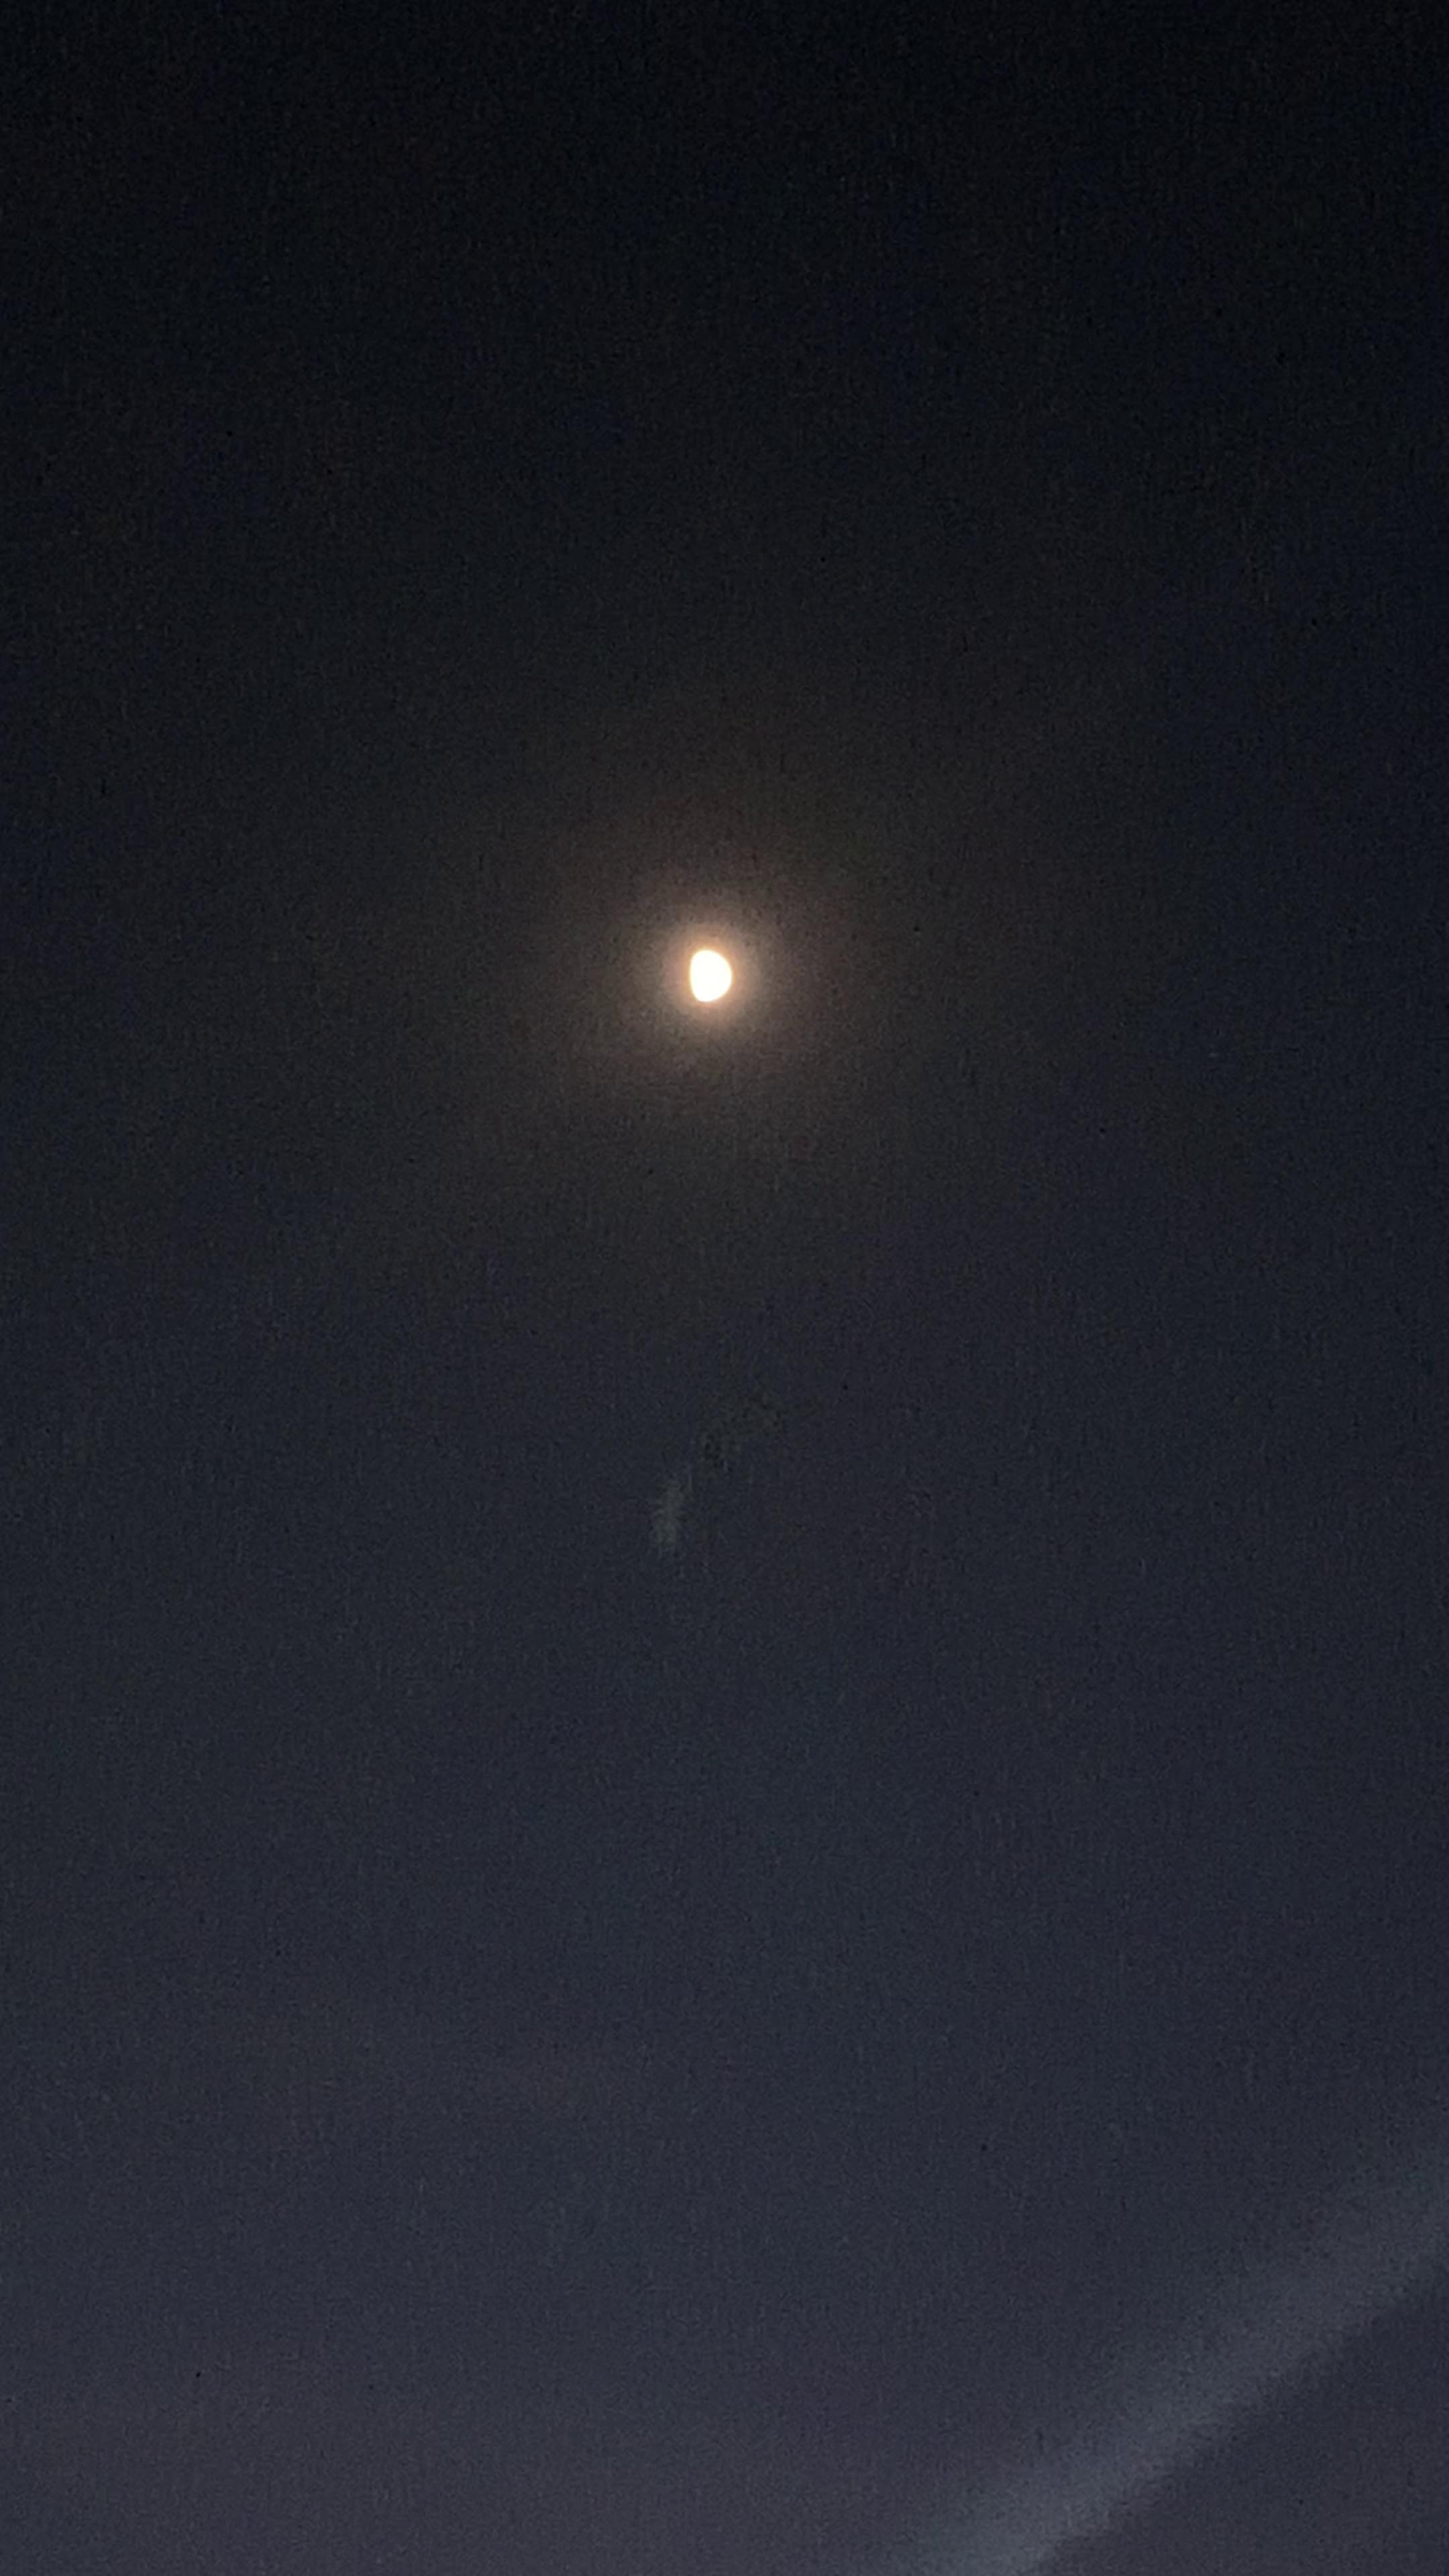moon: (660, 916, 761, 1033)
